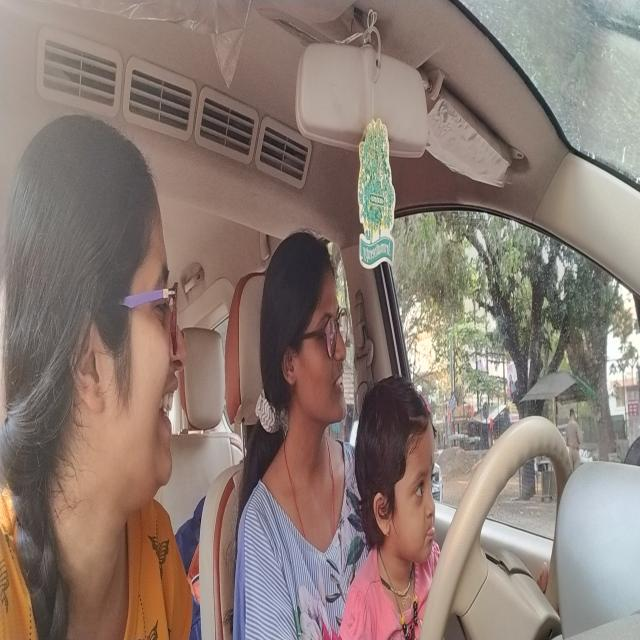child: (354, 373, 441, 568)
person: (3, 103, 185, 548), (256, 222, 349, 436)
